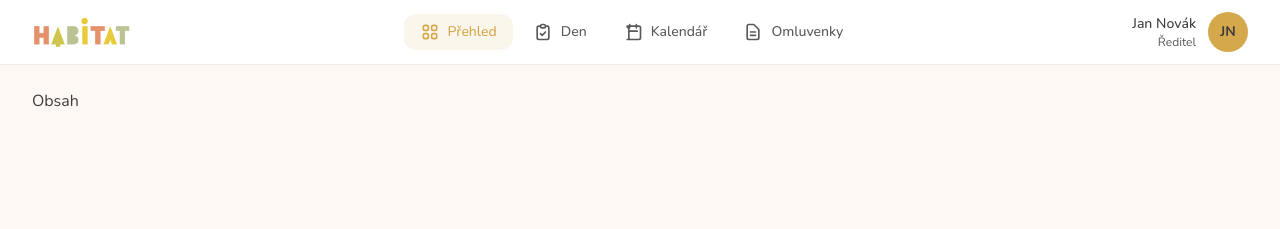
Test: AppShell › offers notification settings only to directors
The image size is (1280, 229).
Step 1. Click the button with aria-label "Otevřít uživatelské menu" → point(1228, 32), box [1208, 12, 1248, 52]
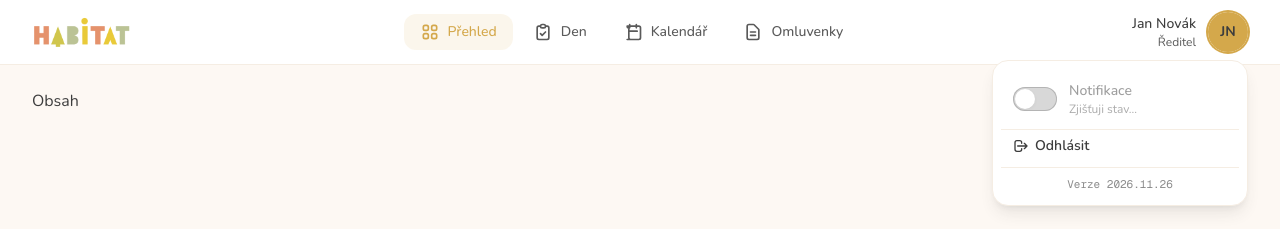
Expected: the menu item "Notifikace Zjišťuji stav…" is shown, [1013, 81, 1137, 117]
